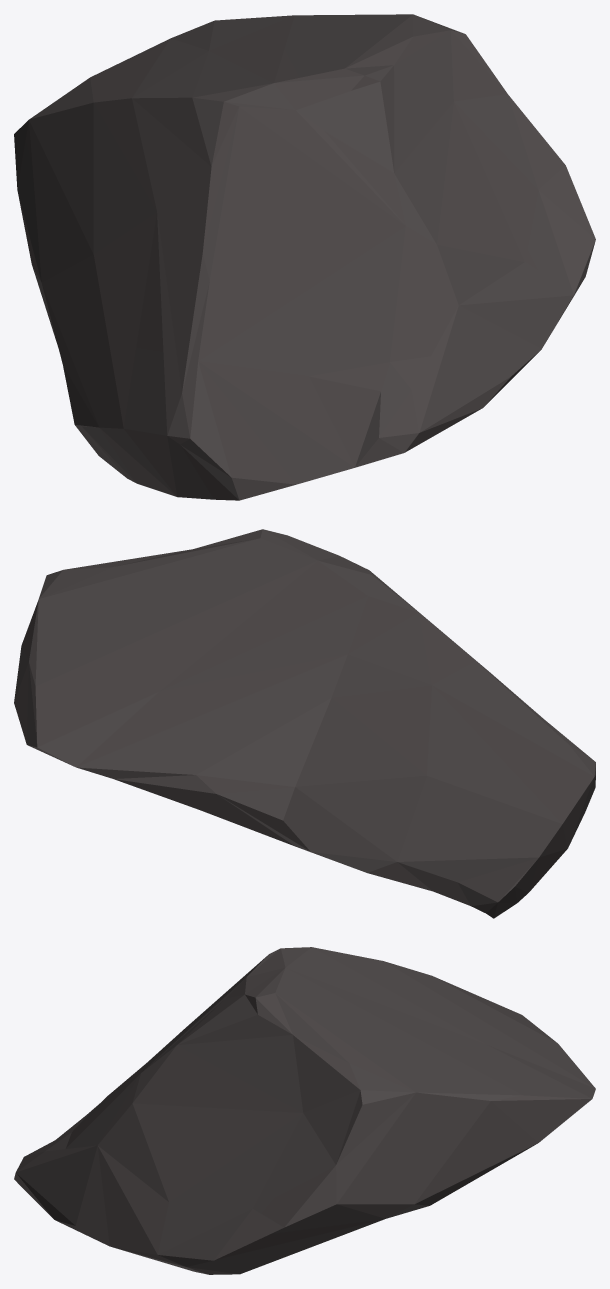
Rendered from Stone_01.obj.
3 renders of one model, top to bottom at view 1: azimuth 30°, elevation 25°; view 2: azimuth 150°, elevation 25°; view 3: azimuth 270°, elevation 25°, orthographic. The views are drawn at different scales.
Parts seen in each view (by area): view 1: Stone_01_Sphere.003; view 2: Stone_01_Sphere.003; view 3: Stone_01_Sphere.003.
Part boxes in pixels (bbox=[...]): Stone_01_Sphere.003: bbox=[14, 14, 595, 500]; Stone_01_Sphere.003: bbox=[14, 529, 595, 918]; Stone_01_Sphere.003: bbox=[14, 947, 595, 1274].
Size of the model in its own units: 1.9 by 1.23 by 2.21.
Materials: 1 (1 with a texture image).
